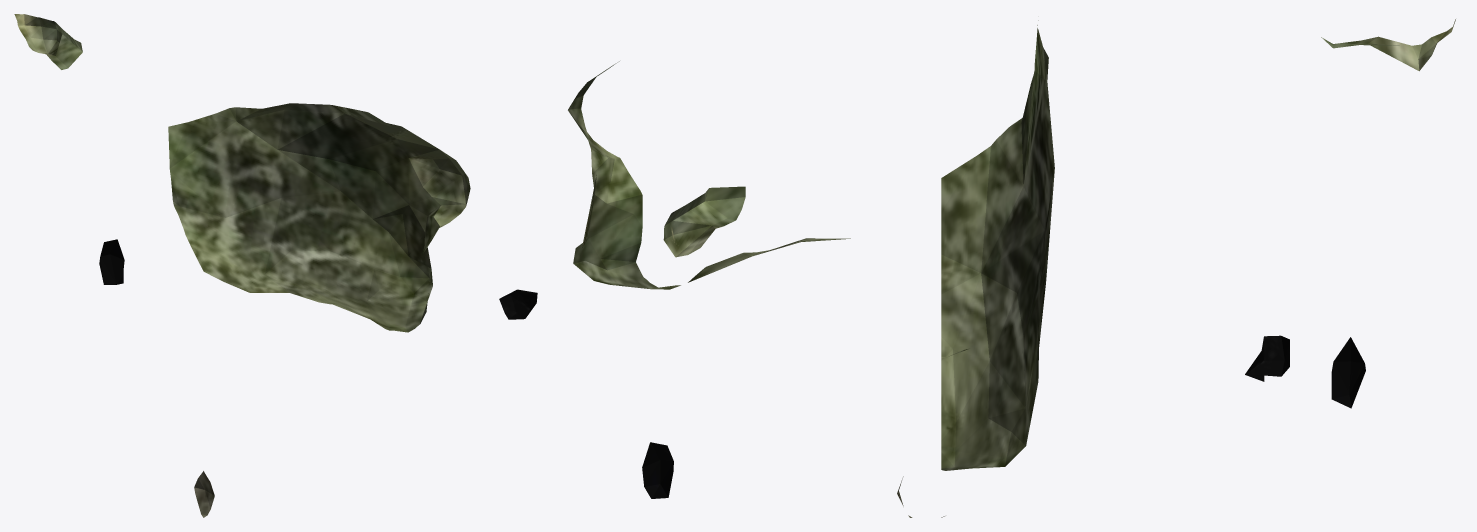
3 renders of one model, left to right at view 1: azimuth 30°, elevation 25°; view 2: azimuth 150°, elevation 25°; view 3: azimuth 270°, elevation 25°, orthographic. The views are drawn at different scales.
Bounding box in the file's own units: 3.83 × 4.99 × 4.68.
1 material, 1 textured.
